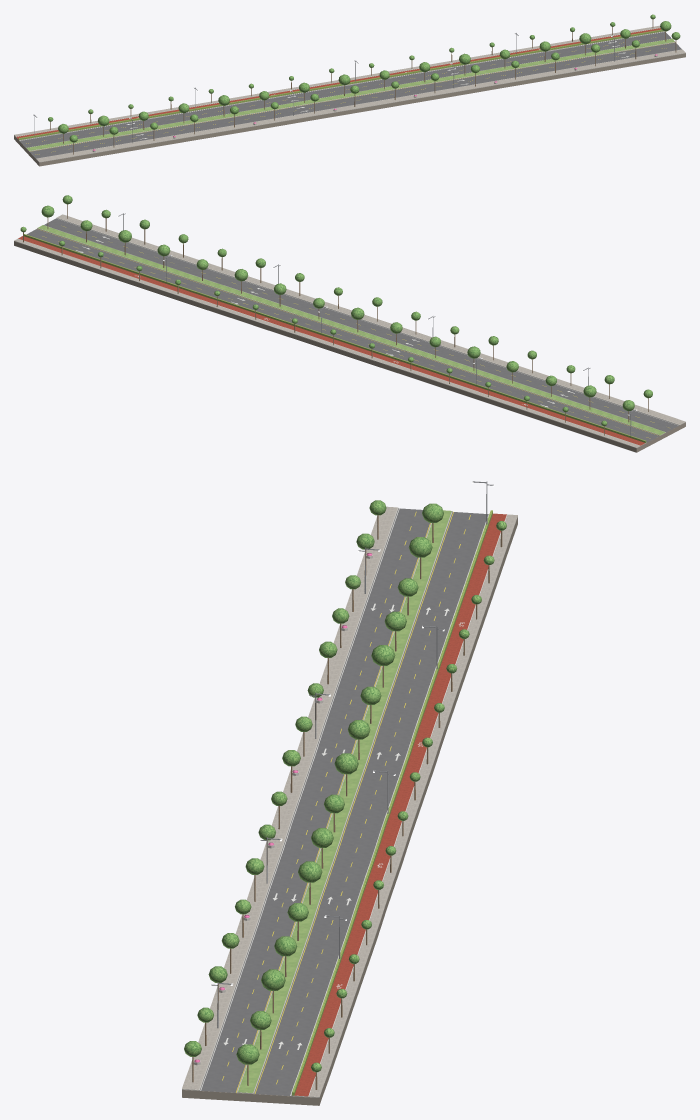
File: avenida_2.glb
3 views of the same model, one above another, from view 1: azimuth 30°, elevation 25°; view 2: azimuth 150°, elevation 25°; view 3: azimuth 270°, elevation 25° (orthographic). The views are drawn at different scales.
Parts seen in each view (by area): view 1: avenida_2; view 2: avenida_2; view 3: avenida_2.
Boxes of the visible parts, x1,y1,x2,y2 form: avenida_2: [14, 14, 685, 166]; avenida_2: [14, 195, 685, 452]; avenida_2: [182, 481, 517, 1105].
Bounding box in the file's own units: 242 × 10.49 × 58.31.
14 materials, 7 textured.
